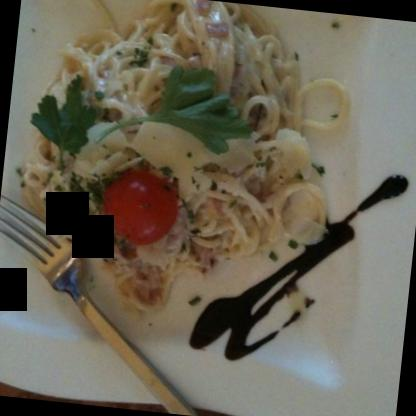pasta: (17, 0, 354, 323)
